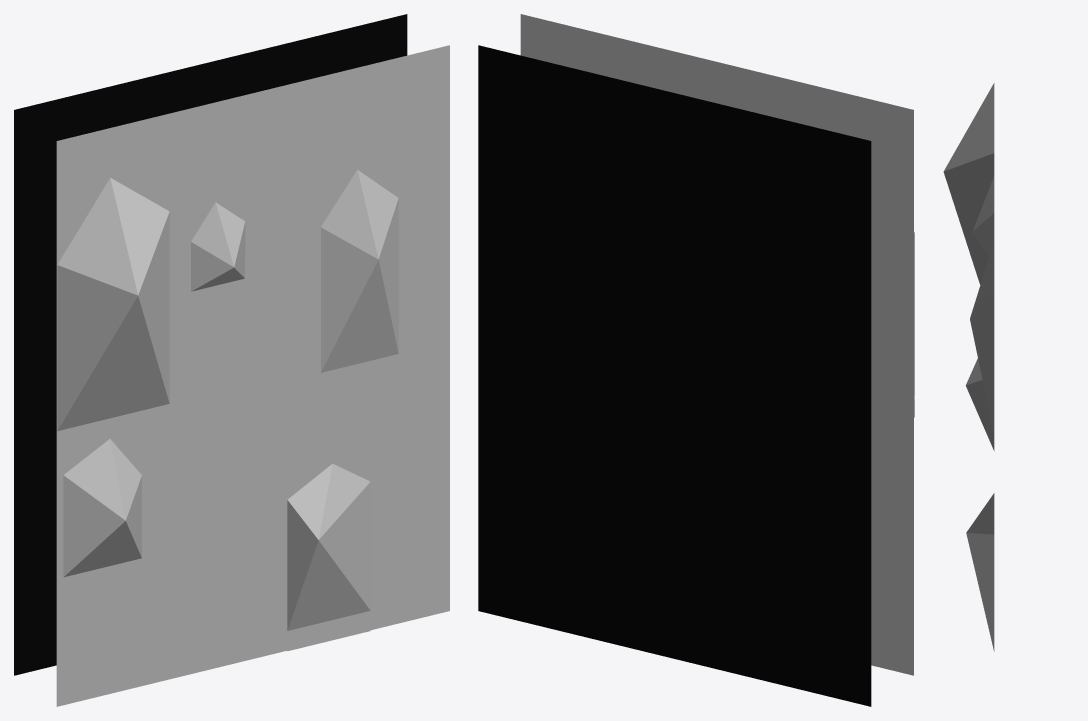
The model's file is mine_wall_straight_01.fbx.
The picture shows the model from 3 angles, left to right: view 1: azimuth 30°, elevation 25°; view 2: azimuth 150°, elevation 25°; view 3: azimuth 270°, elevation 25°; orthographic projection. The views are drawn at different scales.
Parts seen in each view (by area): view 1: obj1; view 2: obj1; view 3: obj1.
Part boxes in pixels (x1,y1,x2,y2): obj1: (14,14,449,706); obj1: (478,14,914,706); obj1: (943,83,994,651).
Size of the model in its own units: 4 by 5.5 by 1.25.
